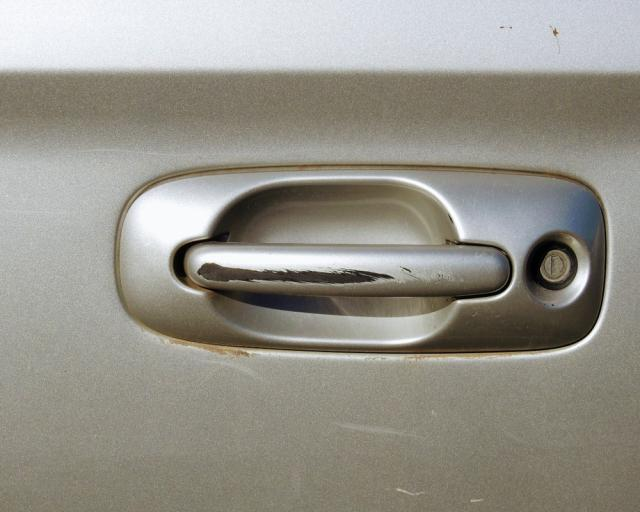scratch: (193, 259, 456, 288)
